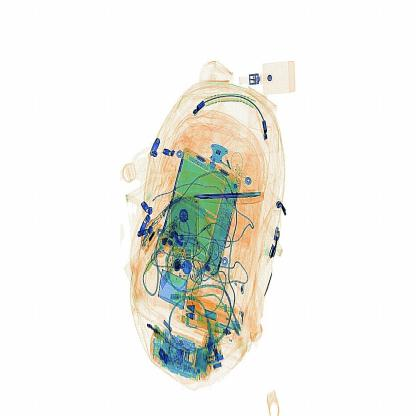pliers: (194, 186, 271, 209)
